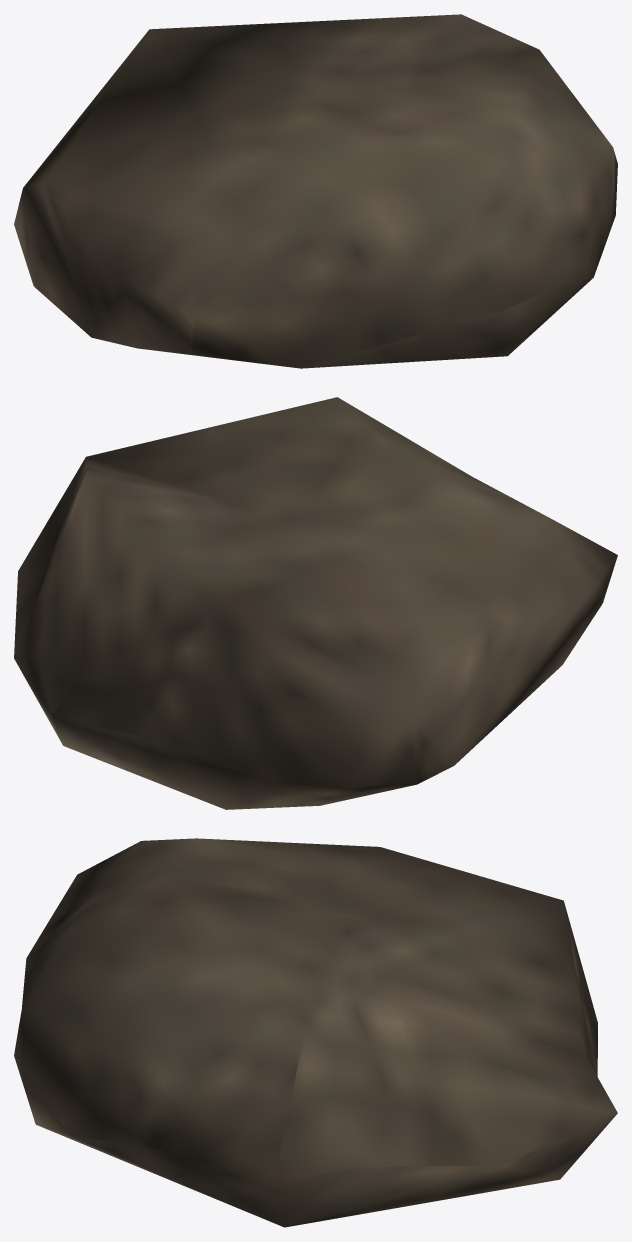
The model's file is Rock01_04.FBX.
3 views of the same model, one above another, from view 1: azimuth 30°, elevation 25°; view 2: azimuth 150°, elevation 25°; view 3: azimuth 270°, elevation 25° (orthographic). The views are drawn at different scales.
Visible parts, largest first — view 1: Rock01_04; view 2: Rock01_04; view 3: Rock01_04.
Boxes of the visible parts, <box> form: Rock01_04: <box>14,14,617,368</box>; Rock01_04: <box>14,397,617,809</box>; Rock01_04: <box>14,838,617,1227</box>.
Size of the model in its own units: 214 by 94.61 by 200.
1 material, 1 textured.
